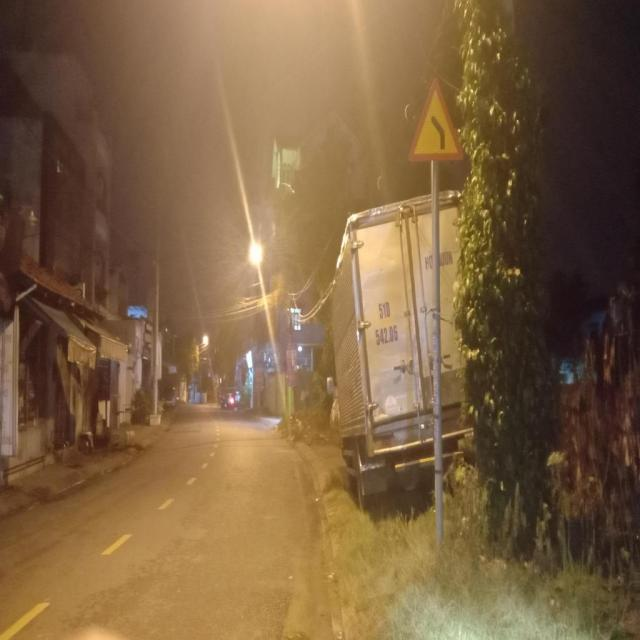cho_ngoat_nguy_hiem_ben_trai: (407, 75, 467, 164)
